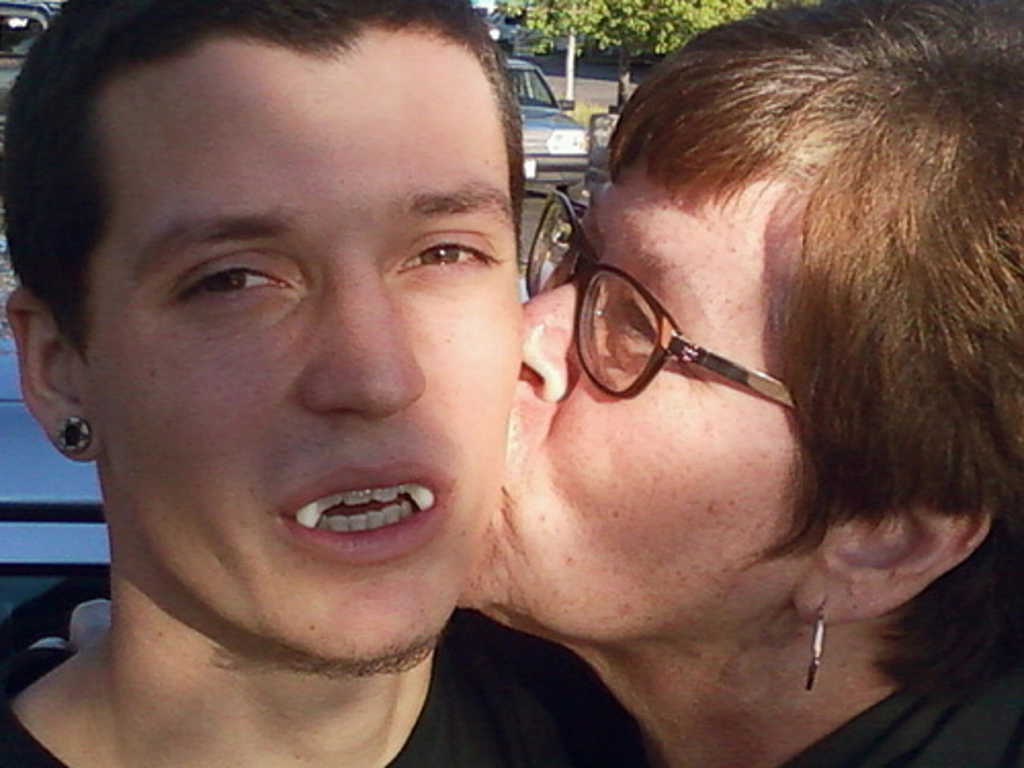Person: (457, 0, 1023, 768)
